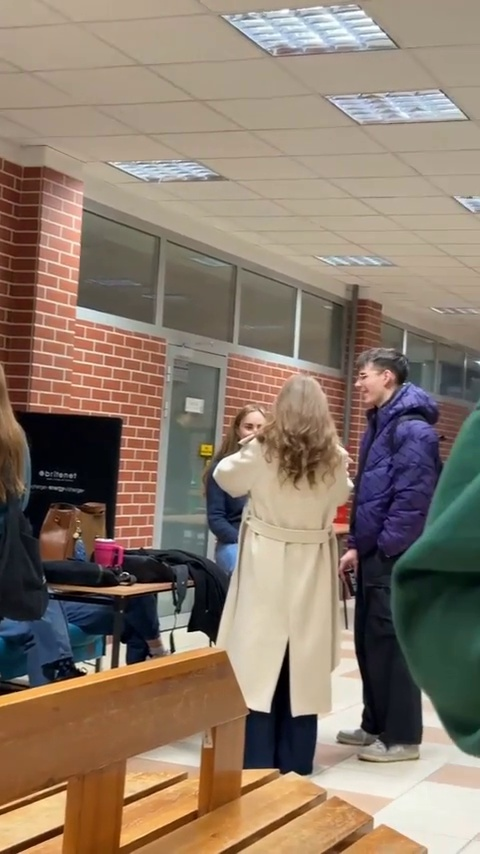no vest: (205, 365, 342, 727), (350, 332, 459, 734)
